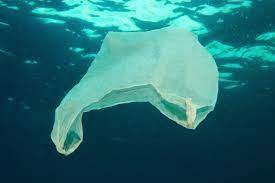Trash: (42, 19, 240, 169)
